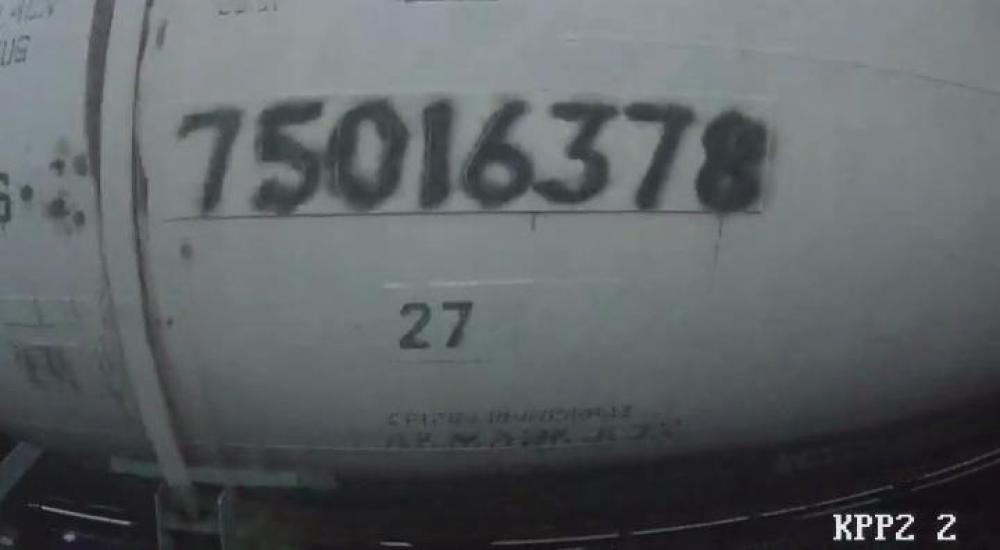Wagon-number: (174, 91, 772, 218)
